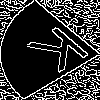K: (25, 25, 100, 81)
